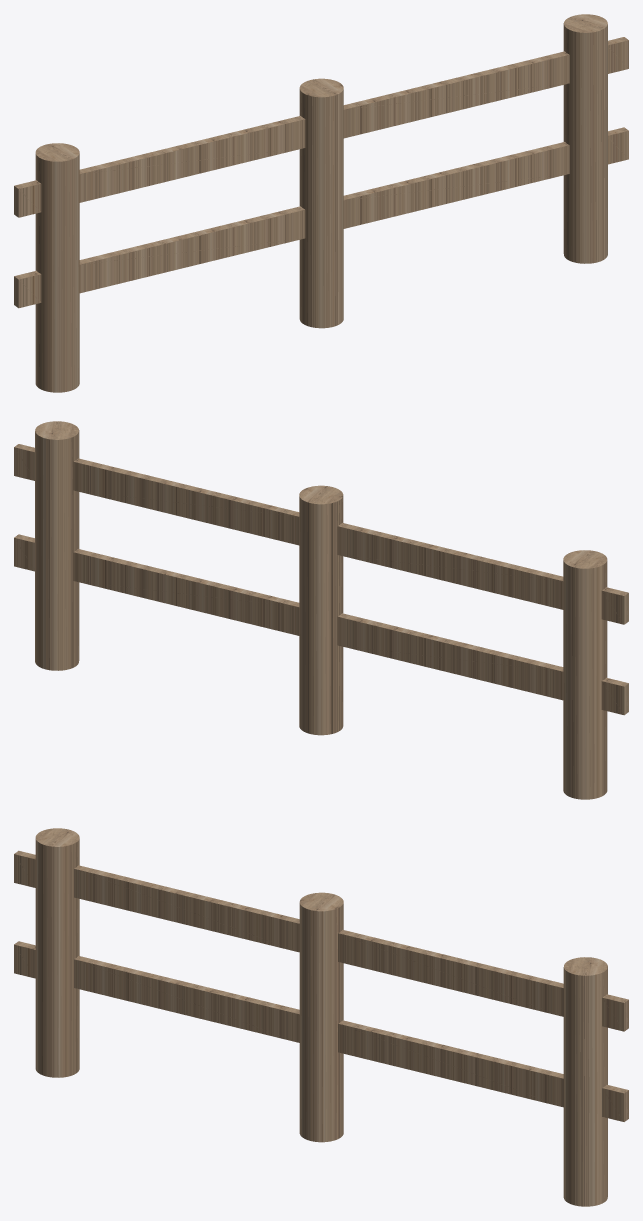
Rendered from Fence.fbx.
3 renders of one model, top to bottom at view 1: azimuth 30°, elevation 25°; view 2: azimuth 150°, elevation 25°; view 3: azimuth 330°, elevation 25°, orthographic.
Parts seen in each view (by area): view 1: 円柱; view 2: 円柱; view 3: 円柱.
Boxes of the visible parts, left/top/right/bottom form: 円柱: left=14, top=14, right=628, bottom=392; 円柱: left=14, top=421, right=628, bottom=799; 円柱: left=14, top=828, right=628, bottom=1206.
Size of the model in its own units: 481 by 174 by 30.14.
